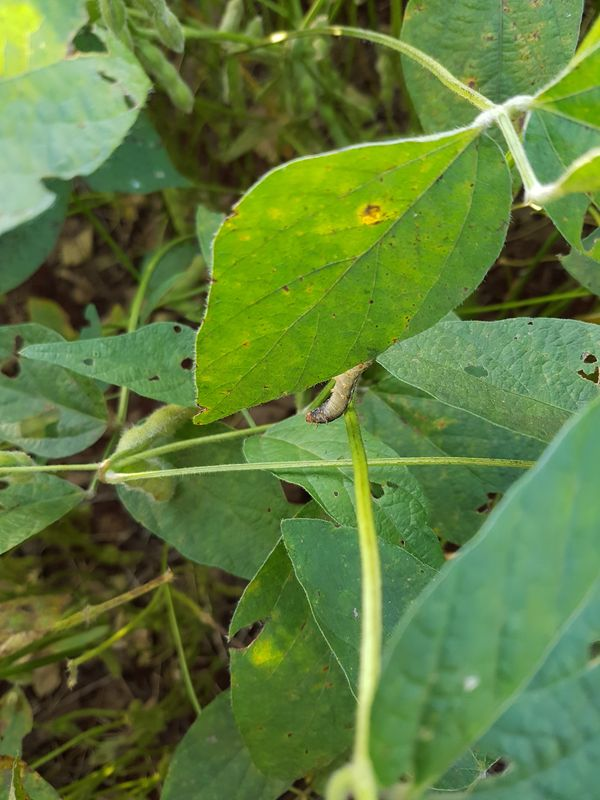Spodoptera_albula: (284, 329, 413, 437)
